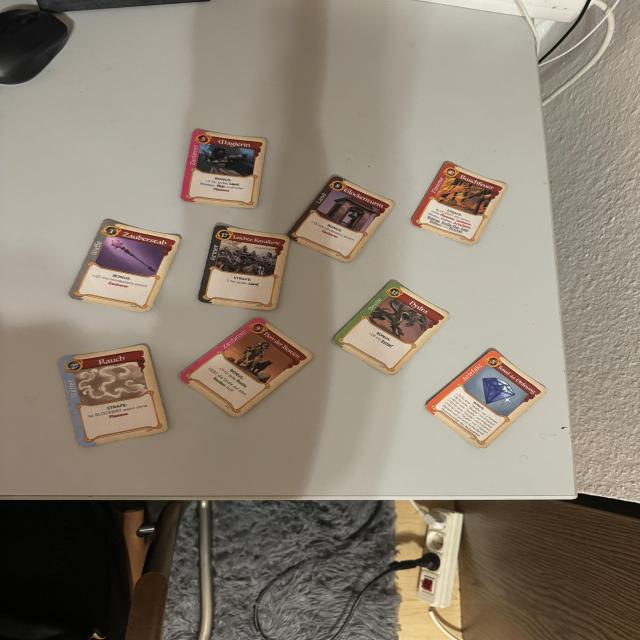Beast Master: (175, 316, 317, 419)
Clock Tower: (285, 174, 395, 264)
Dwarvish Infantry: (196, 224, 290, 310)
Elemental Enchantress: (181, 128, 267, 210)
Gem Of Order: (423, 348, 549, 450)
Hydra: (329, 278, 451, 377)
Magic Wand: (65, 216, 183, 314)
Smoke: (58, 344, 172, 450)
Wildfire: (410, 160, 511, 245)
